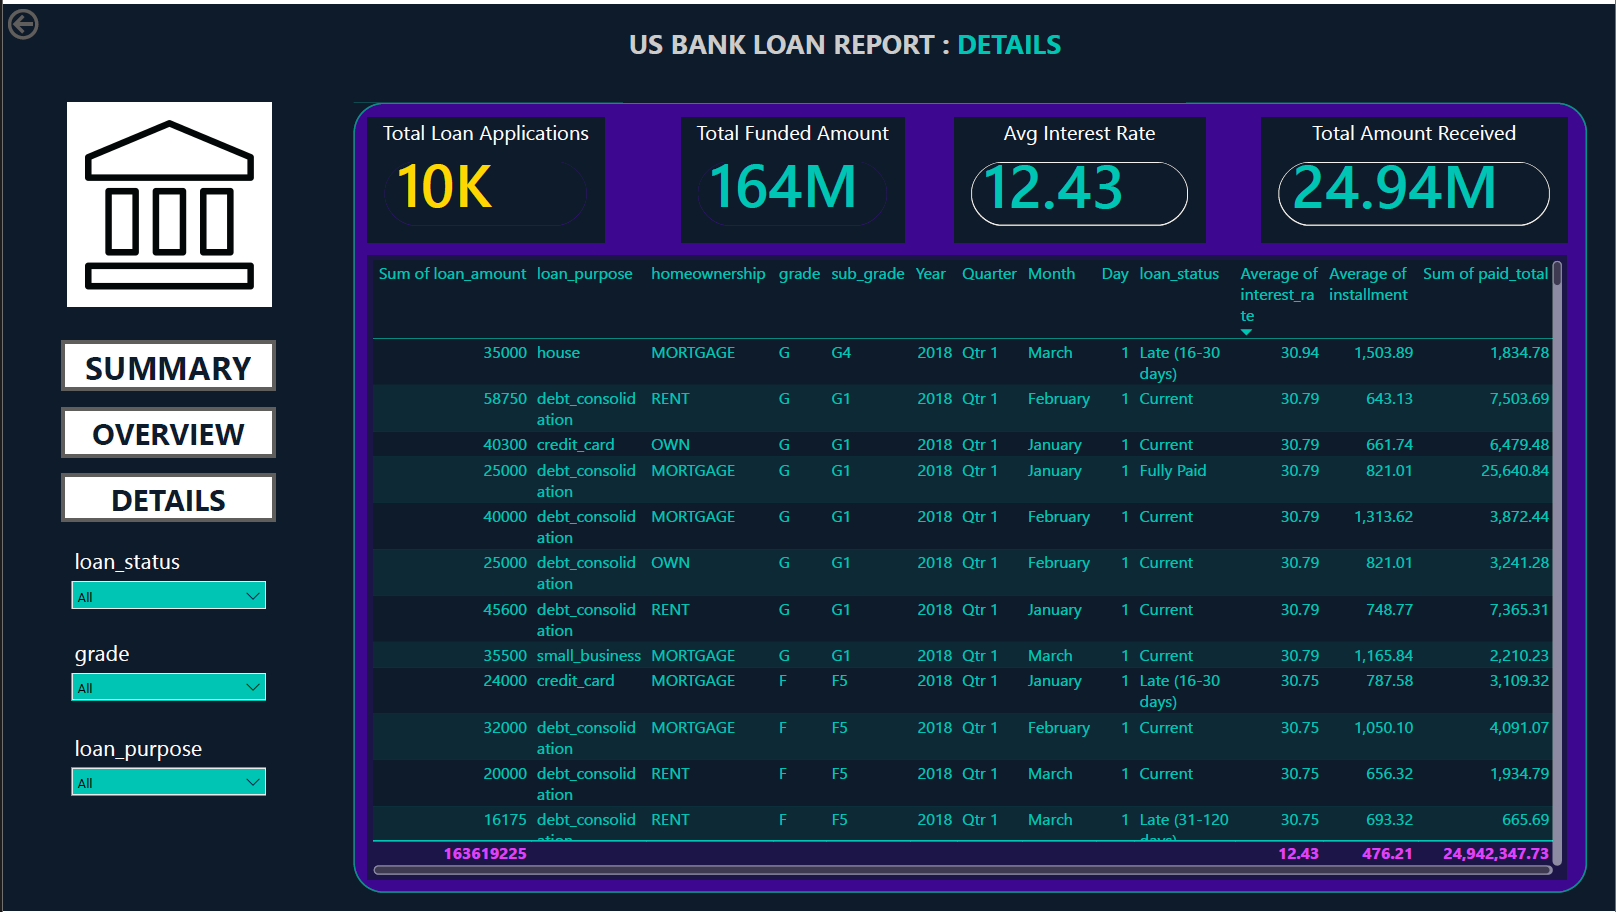

Layout of this report page (visuals, bound fields, positions):
{"tool":"powerbi","page":{"name":"DETAILS","canvas":[1600,900],"ordinal":2},"visuals":[{"type":"shape","box":[348,98,1224,784],"z":0},{"type":"actionButton","box":[58,334,212,50],"z":1000},{"type":"actionButton","box":[58,400,212,50],"z":2000},{"type":"actionButton","box":[58,466,212,48],"z":3000},{"type":"image","box":[36,98,258,202],"z":4000},{"type":"textbox","box":[616,16,558,82],"z":5000},{"type":"slicer","fields":{"Values":["loans_full_schema.loan_status"]},"box":[58.2,532.7,212.7,69.1],"z":6000},{"type":"slicer","fields":{"Values":["loans_full_schema.grade"]},"box":[58.2,623.6,212.7,69.1],"z":7000},{"type":"slicer","fields":{"Values":["loans_full_schema.loan_purpose"]},"box":[58.2,718.2,212.7,69.1],"z":8000},{"type":"cardVisual","title":"Total Loan Applications","fields":{"Data":["CountNonNull(loans_full_schema.loan_amount)"]},"box":[361.8,112.7,234.5,123.6],"z":9000},{"type":"cardVisual","title":"Total Funded Amount","fields":{"Data":["Sum(loans_full_schema.loan_amount)"]},"box":[672.7,112.7,221.8,123.6],"z":10000},{"type":"cardVisual","title":"Avg Interest Rate","fields":{"Data":["Avg(loans_full_schema.interest_rate)"]},"box":[943.6,112.7,249.1,123.6],"z":11000},{"type":"cardVisual","title":"Total Amount Received","fields":{"Data":["Sum(loans_full_schema.paid_total)"]},"box":[1249.1,112.7,303.6,123.6],"z":12000},{"type":"tableEx","fields":{"Values":["Sum(loans_full_schema.loan_amount)","loans_full_schema.loan_purpose","loans_full_schema.homeownership","loans_full_schema.grade","loans_full_schema.sub_grade","loans_full_schema.issue_month.Variation.Date Hierarchy.Year","loans_full_schema.issue_month.Variation.Date Hierarchy.Quarter","loans_full_schema.issue_month.Variation.Date Hierarchy.Month","loans_full_schema.issue_month.Variation.Date Hierarchy.Day","loans_full_schema.loan_status","Avg(loans_full_schema.interest_rate)","Avg(loans_full_schema.installment)"]},"box":[361.9,250.4,1190.4,619.2],"z":13000},{"type":"actionButton","box":[0,0,100,40],"z":14000}]}

Visuals, with their boxes in screenshot pixels (x1, y1, x2, y2), scaled from the page's 1600x900 canvas onto the 1616x912 screenshot:
shape: Rect(351, 99, 1588, 894)
actionButton: Rect(59, 338, 273, 389)
actionButton: Rect(59, 405, 273, 456)
actionButton: Rect(59, 472, 273, 521)
image: Rect(36, 99, 297, 304)
textbox: Rect(622, 16, 1186, 99)
slicer - loans_full_schema.loan_status: Rect(59, 540, 274, 610)
slicer - loans_full_schema.grade: Rect(59, 632, 274, 702)
slicer - loans_full_schema.loan_purpose: Rect(59, 728, 274, 798)
"Total Loan Applications" cardVisual: Rect(365, 114, 602, 239)
"Total Funded Amount" cardVisual: Rect(679, 114, 903, 239)
"Avg Interest Rate" cardVisual: Rect(953, 114, 1205, 239)
"Total Amount Received" cardVisual: Rect(1262, 114, 1568, 239)
tableEx - Sum(loans_full_schema.loan_amount) x loans_full_schema.loan_purpose: Rect(366, 254, 1568, 881)
actionButton: Rect(0, 0, 101, 41)
